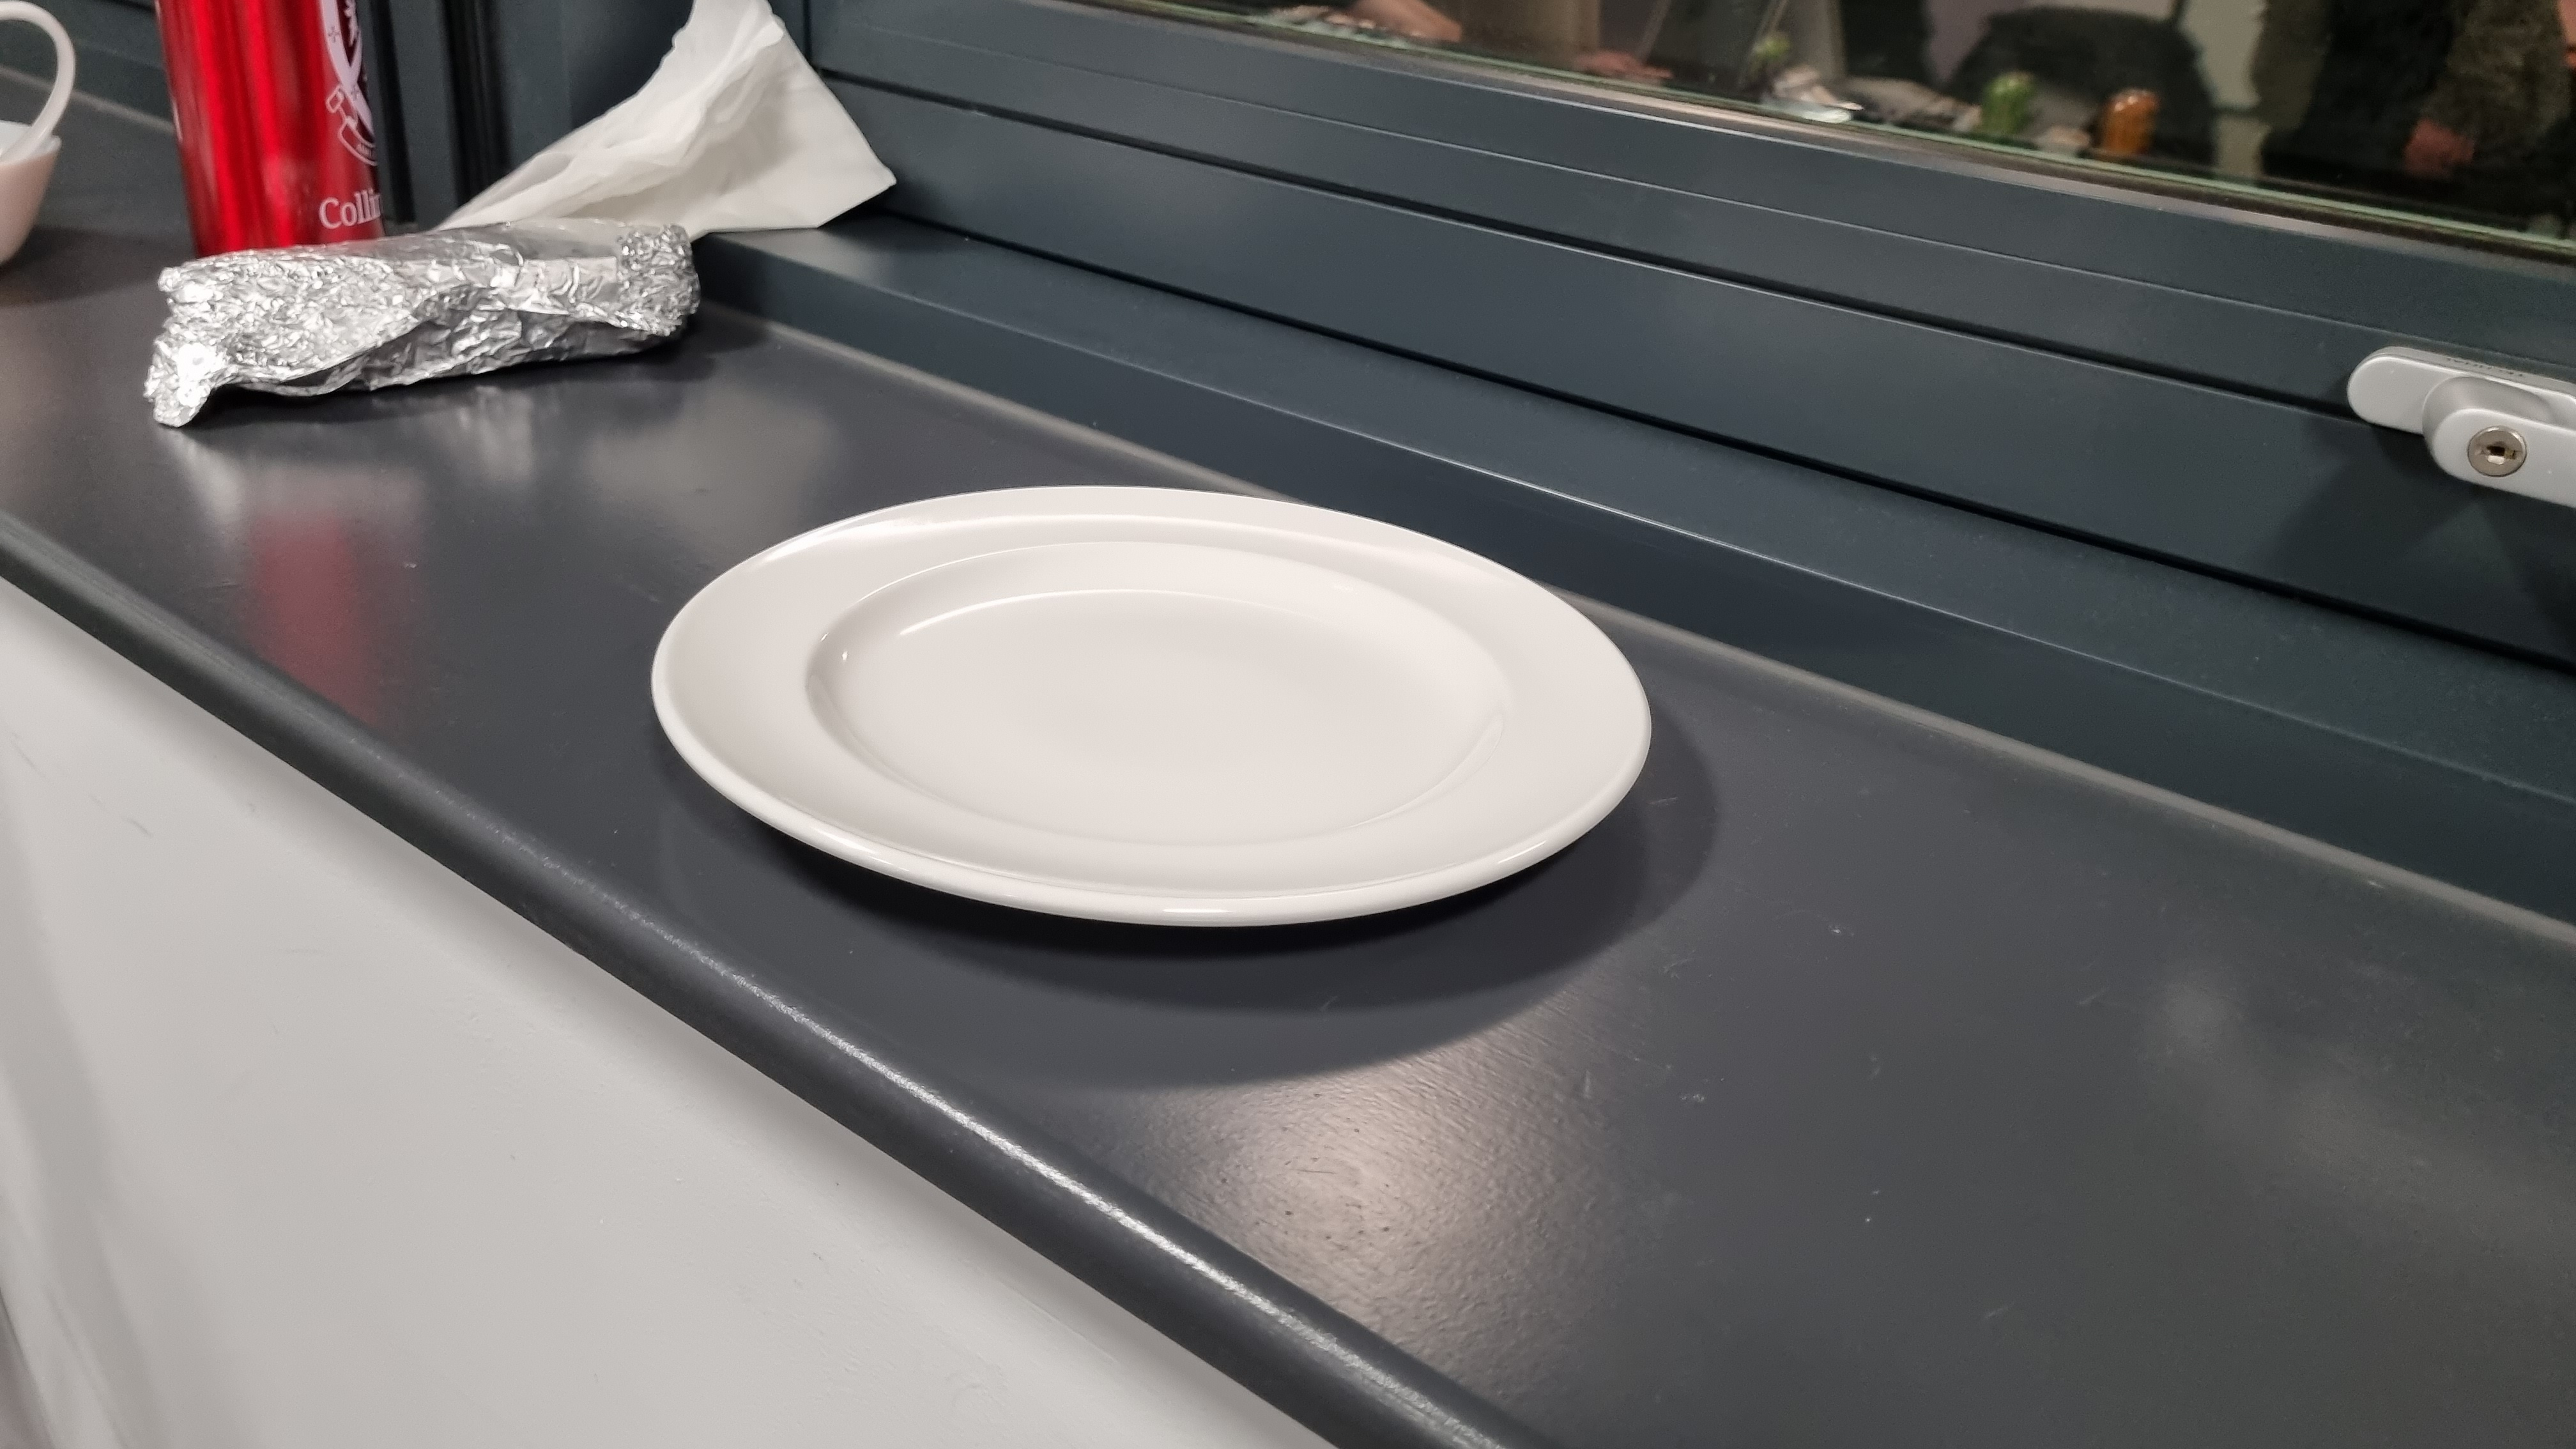plate: (639, 464, 1668, 945)
